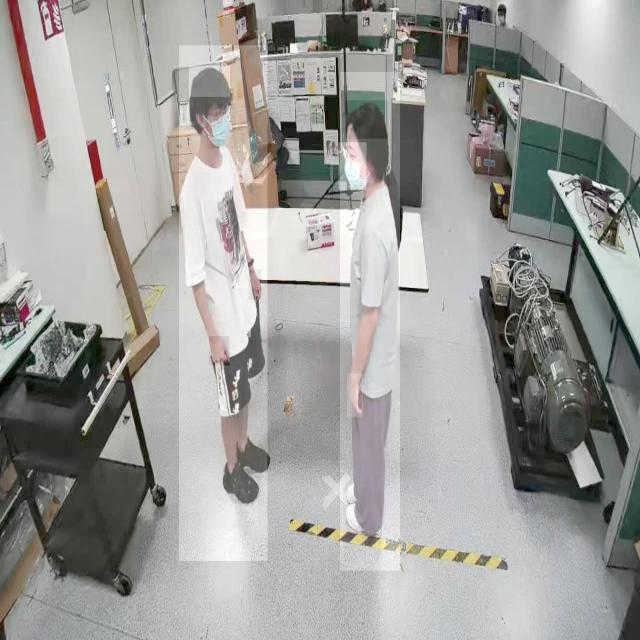face_mask: (338, 142, 366, 190), (205, 104, 235, 148)
hand_noglove: (347, 373, 363, 418), (209, 336, 230, 366), (248, 270, 262, 300)
head_nohelmet: (345, 100, 389, 140), (189, 66, 231, 98), (497, 2, 507, 10)
person: (179, 45, 268, 562), (340, 72, 400, 572)
shoes: (232, 431, 272, 477), (221, 460, 261, 505), (343, 502, 385, 536)
